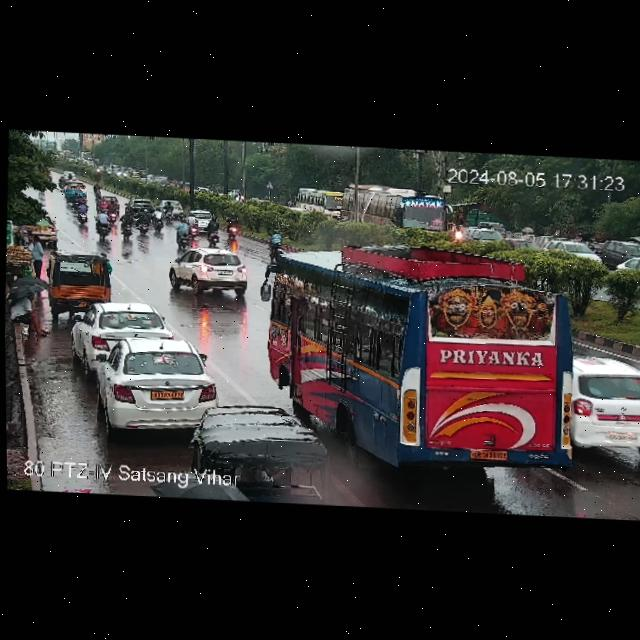bus: (264, 243, 588, 486), (341, 184, 449, 237), (294, 182, 347, 224)
car: (191, 402, 339, 505), (85, 337, 219, 435), (565, 353, 640, 460), (73, 301, 169, 357), (51, 250, 113, 311), (173, 247, 247, 293), (548, 239, 603, 265), (597, 233, 640, 265), (161, 199, 189, 218), (125, 197, 153, 214), (189, 208, 217, 223), (65, 182, 84, 202), (480, 222, 506, 236), (95, 194, 109, 211)
motorcycle: (269, 230, 287, 261), (94, 209, 112, 238), (174, 221, 193, 248), (204, 221, 223, 245), (222, 213, 240, 237), (73, 201, 90, 224), (122, 210, 134, 237), (137, 207, 148, 234), (152, 208, 163, 232), (162, 200, 174, 222), (107, 201, 118, 224), (163, 202, 175, 220), (451, 224, 462, 237), (71, 193, 79, 209), (93, 182, 102, 196), (58, 176, 64, 190), (76, 195, 85, 203), (68, 172, 72, 180)
person: (10, 275, 50, 333), (28, 234, 45, 275)
